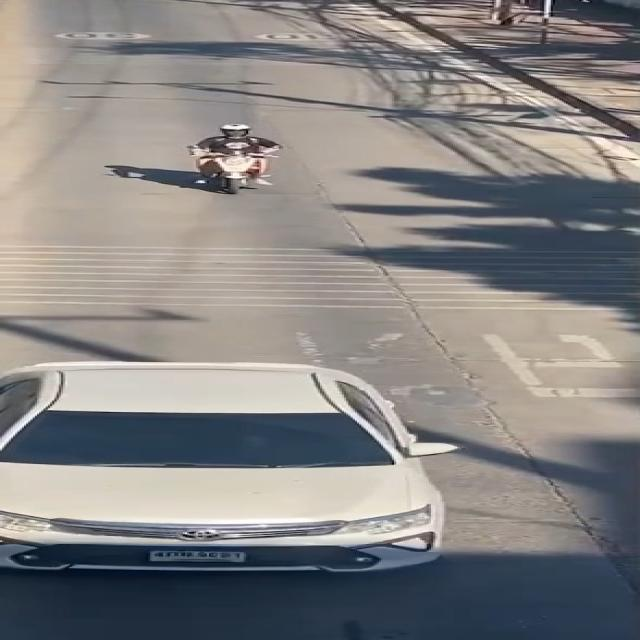car: (0, 353, 494, 599)
